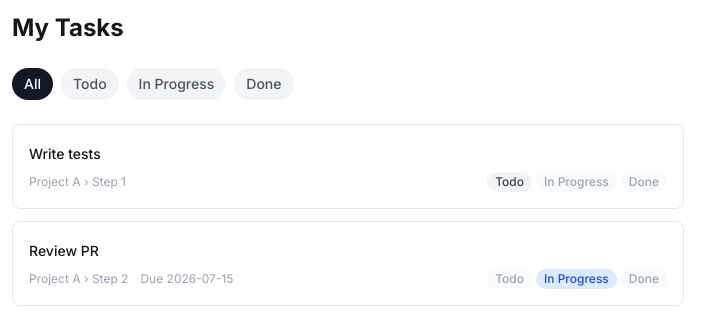
Test case: MyTaskList › shows per-tab empty state when filtered results are empty
The image size is (701, 323).
Click the button with test id "filter-done" at (264, 84), box [234,68,294,100]
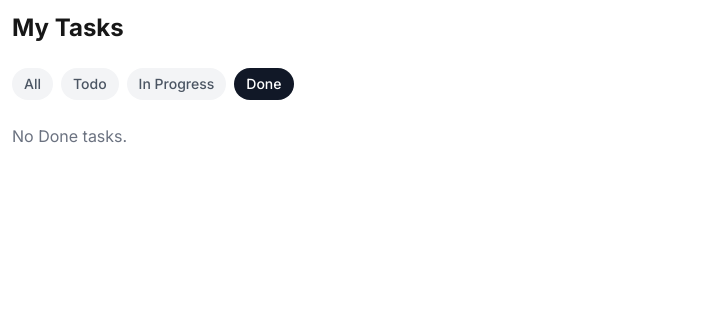
Check: the text "No Done tasks." is shown, box [12,126,127,146]
